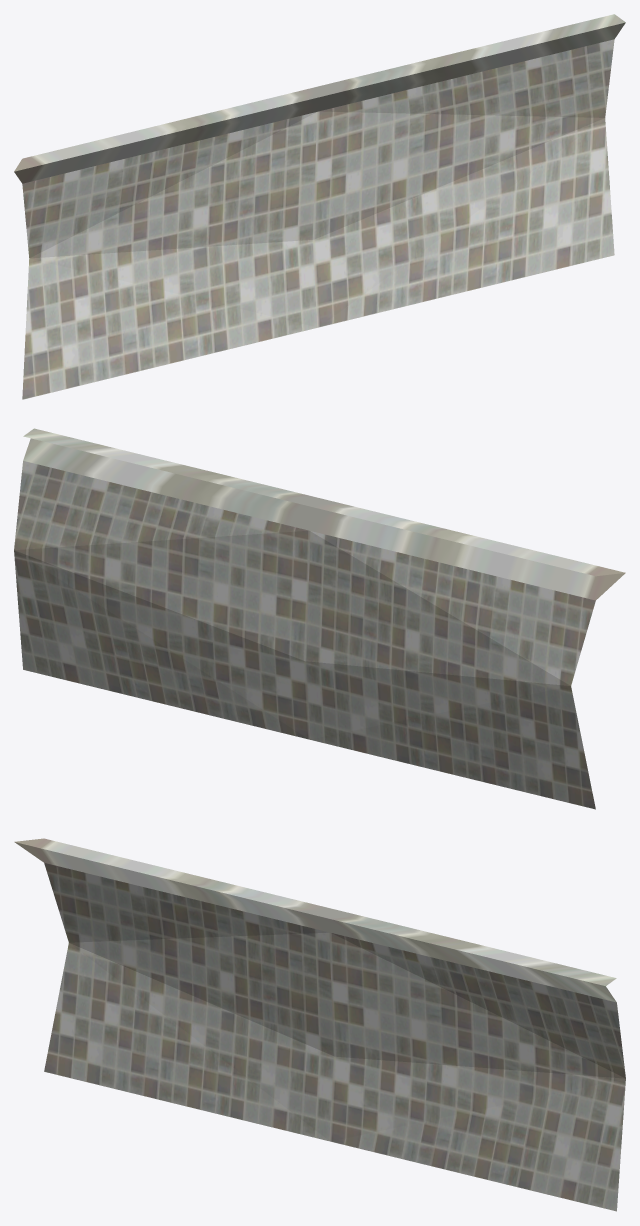
The model's file is W_A2l_xxxx [Schwimmbad]_2183.glb.
The picture shows the model from 3 angles, top to bottom: view 1: azimuth 30°, elevation 25°; view 2: azimuth 150°, elevation 25°; view 3: azimuth 330°, elevation 25°; orthographic projection. The views are drawn at different scales.
Visible parts, largest first — view 1: polySurfaceShape787, polySurfaceShape1065; view 2: polySurfaceShape787, polySurfaceShape1065; view 3: polySurfaceShape787, polySurfaceShape1065.
Boxes of the visible parts, box(x1,y1,x2,y2) form: polySurfaceShape787: box(22, 39, 614, 399); polySurfaceShape1065: box(14, 14, 625, 183); polySurfaceShape787: box(14, 461, 595, 809); polySurfaceShape1065: box(23, 428, 625, 600); polySurfaceShape787: box(44, 863, 625, 1211); polySurfaceShape1065: box(14, 838, 616, 1002).
Bounding box in the file's own units: 1.03 × 0.3891 × 0.0607.
2 materials, 2 textured.
